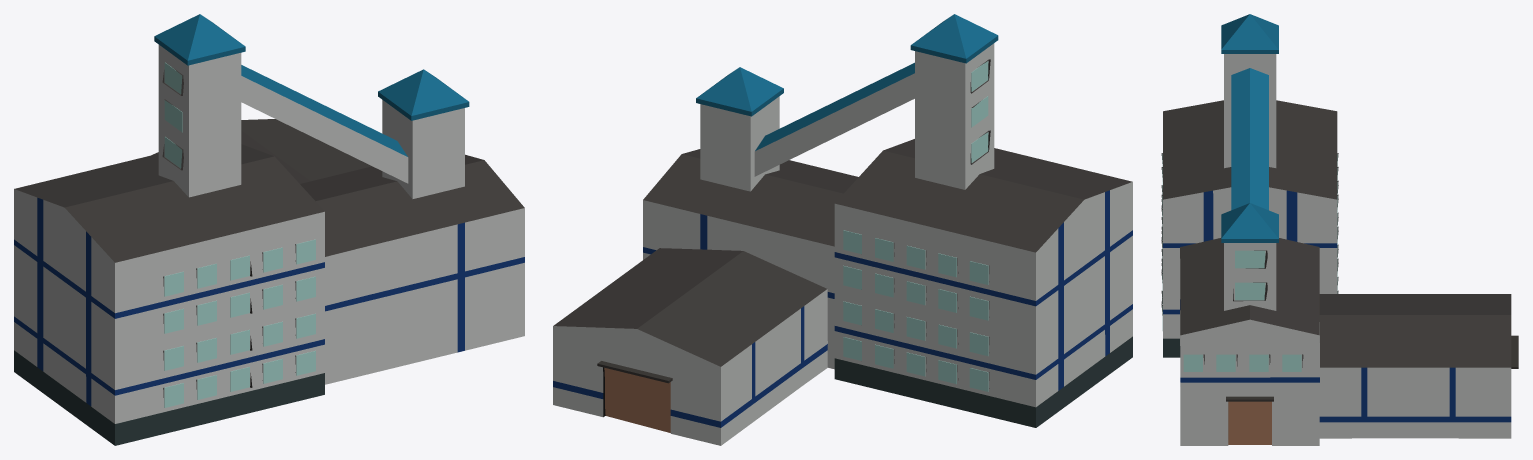
Rendered from SM_Factory_Refinery_01.glb.
3 views of the same model, side by side, from view 1: azimuth 30°, elevation 25°; view 2: azimuth 150°, elevation 25°; view 3: azimuth 270°, elevation 25° (orthographic). The views are drawn at different scales.
Parts seen in each view (by area): view 1: SM_Factory_Refinery_01; view 2: SM_Factory_Refinery_01; view 3: SM_Factory_Refinery_01.
Boxes of the visible parts, bbox=[...] form: SM_Factory_Refinery_01: bbox=[14, 14, 524, 445]; SM_Factory_Refinery_01: bbox=[553, 14, 1132, 445]; SM_Factory_Refinery_01: bbox=[1161, 14, 1518, 445].
Size of the model in its own units: 24.41 by 19.78 by 20.49.
1 material, 1 textured.
